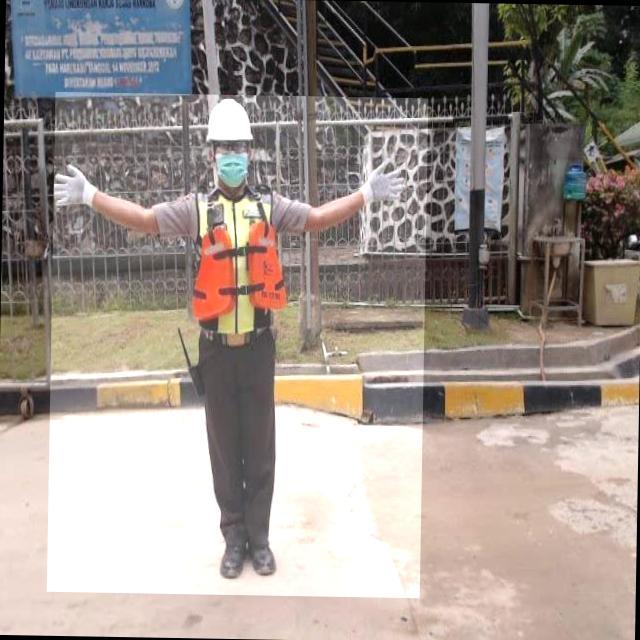Gloves: (356, 153, 416, 218), (49, 159, 106, 219)
Helmet: (208, 99, 257, 144)
Person: (43, 81, 423, 600)
Safety Boot: (250, 531, 283, 580), (221, 532, 251, 582)
Safety Vest: (191, 187, 294, 337)
